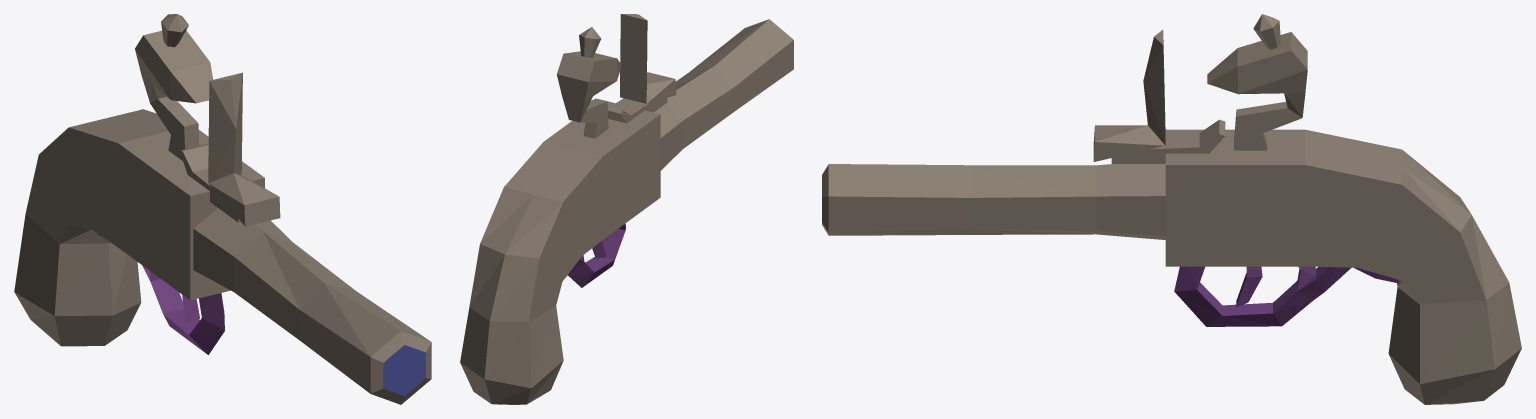
File: SM_Wep_Pistol_02_Separate.glb
3 renders of one model, left to right at view 1: azimuth 30°, elevation 25°; view 2: azimuth 150°, elevation 25°; view 3: azimuth 270°, elevation 25°, orthographic. The views are drawn at different scales.
Parts seen in each view (by area): view 1: SM_Wep_Pistol_02_Separate_00, SM_Wep_Pistol_02_Separate_01; view 2: SM_Wep_Pistol_02_Separate_00, SM_Wep_Pistol_02_Separate_01; view 3: SM_Wep_Pistol_02_Separate_00, SM_Wep_Pistol_02_Separate_01.
Part boxes in pixels (x1,y1,x2,y2): SM_Wep_Pistol_02_Separate_00: [14, 72, 431, 404]; SM_Wep_Pistol_02_Separate_01: [135, 14, 213, 160]; SM_Wep_Pistol_02_Separate_00: [460, 14, 793, 404]; SM_Wep_Pistol_02_Separate_01: [556, 27, 621, 138]; SM_Wep_Pistol_02_Separate_00: [822, 29, 1521, 404]; SM_Wep_Pistol_02_Separate_01: [1207, 14, 1307, 150].
Size of the model in its own units: 0.0499 by 0.2149 by 0.3497.
1 material, 1 textured.
